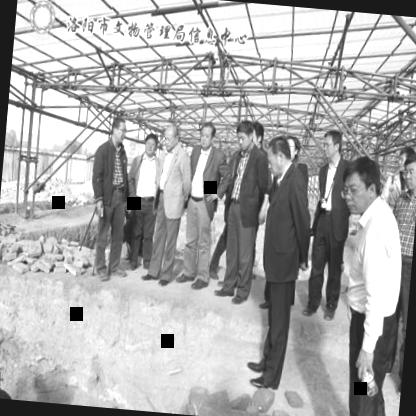head: (337, 153, 383, 218), (265, 132, 295, 176), (321, 127, 345, 166), (398, 146, 416, 193), (196, 117, 218, 152), (106, 117, 129, 150), (233, 119, 256, 152), (161, 119, 182, 153), (394, 144, 416, 175), (140, 130, 160, 158)
